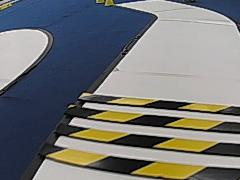bump: (50, 88, 240, 177)
